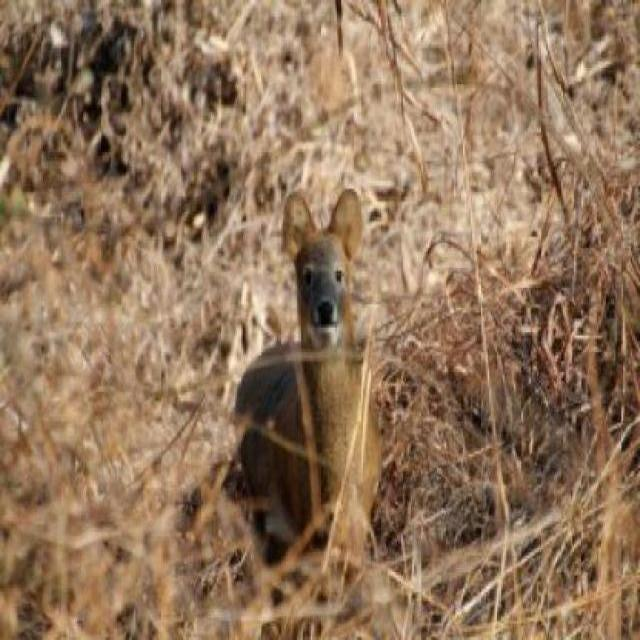deer: (252, 157, 394, 571)
